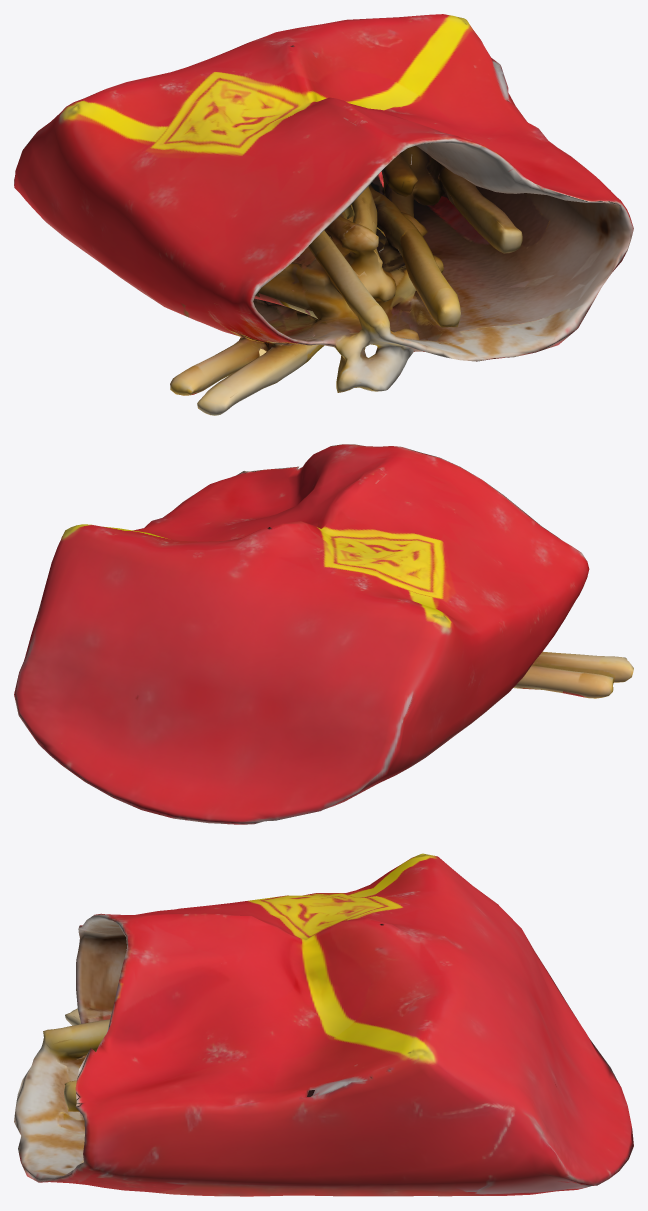
Rendered from Meshy_AI_Lost_Fries_0102213208_texture.fbx.
The picture shows the model from 3 angles, top to bottom: view 1: azimuth 30°, elevation 25°; view 2: azimuth 150°, elevation 25°; view 3: azimuth 270°, elevation 25°; orthographic projection. The views are drawn at different scales.
Parts seen in each view (by area): view 1: Mesh0; view 2: Mesh0; view 3: Mesh0.
Boxes of the visible parts, x1=… form: Mesh0: x1=14, y1=14, x2=633, y2=415; Mesh0: x1=14, y1=444, x2=633, y2=824; Mesh0: x1=14, y1=853, x2=633, y2=1196.
Size of the model in its own units: 139 by 63.61 by 164.
Materials: 1 (1 with a texture image).
